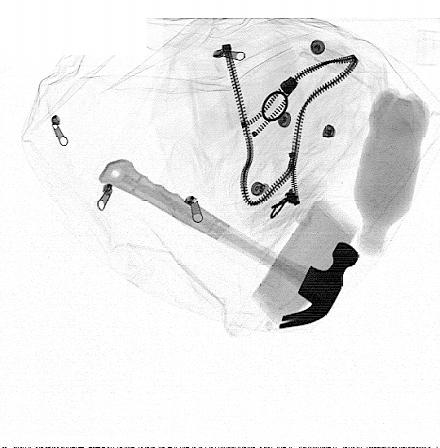Hammer: (99, 158, 360, 329)
